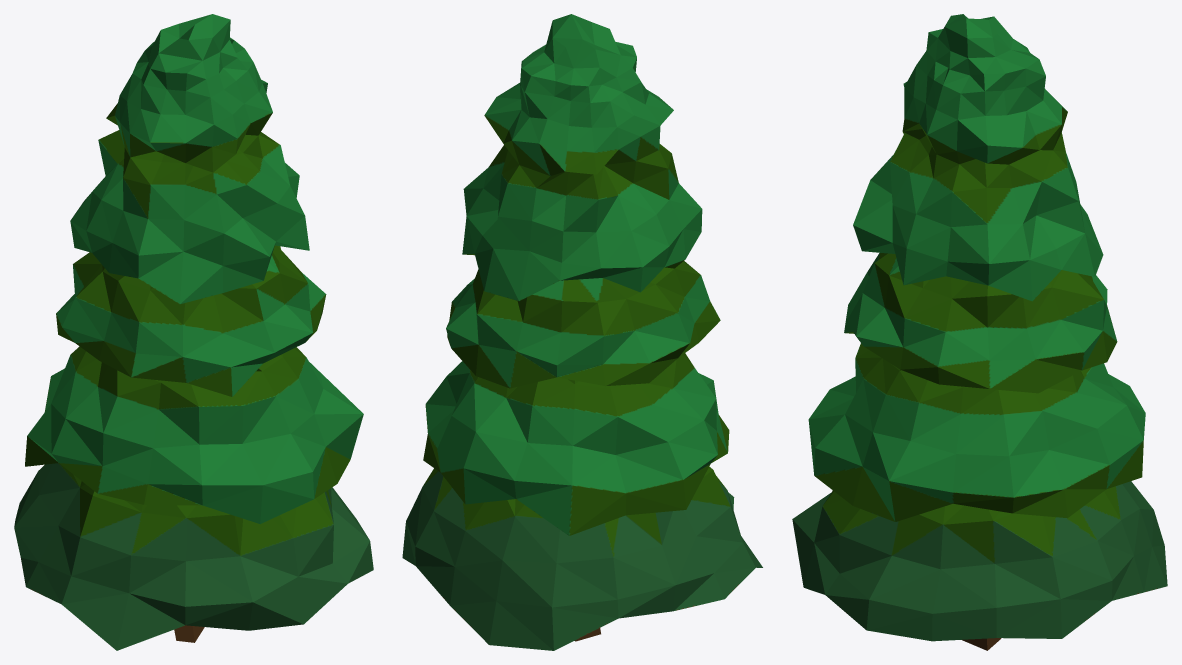
File: tree1.glb
3 renders of one model, left to right at view 1: azimuth 30°, elevation 25°; view 2: azimuth 150°, elevation 25°; view 3: azimuth 270°, elevation 25°, orthographic. The views are drawn at different scales.
Parts seen in each view (by area): view 1: _1_tree; view 2: _1_tree; view 3: _1_tree.
Part boxes in pixels (box(x1,y1,x2,y2)): _1_tree: box(14, 14, 373, 650); _1_tree: box(402, 14, 762, 650); _1_tree: box(792, 14, 1167, 650).
Bounding box in the file's own units: 0.7483 × 1.45 × 0.7799.
Materials: 1 (1 with a texture image).
